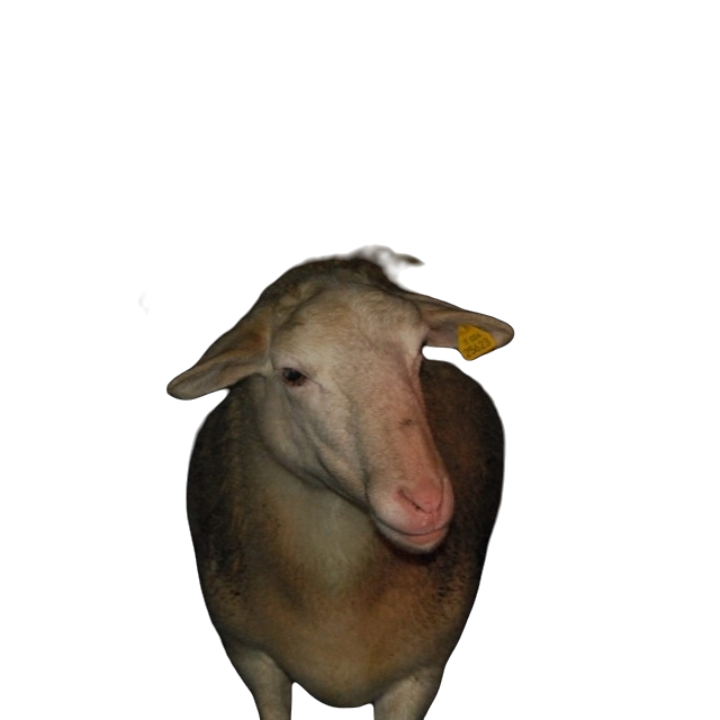Sheep: (162, 241, 519, 719)
